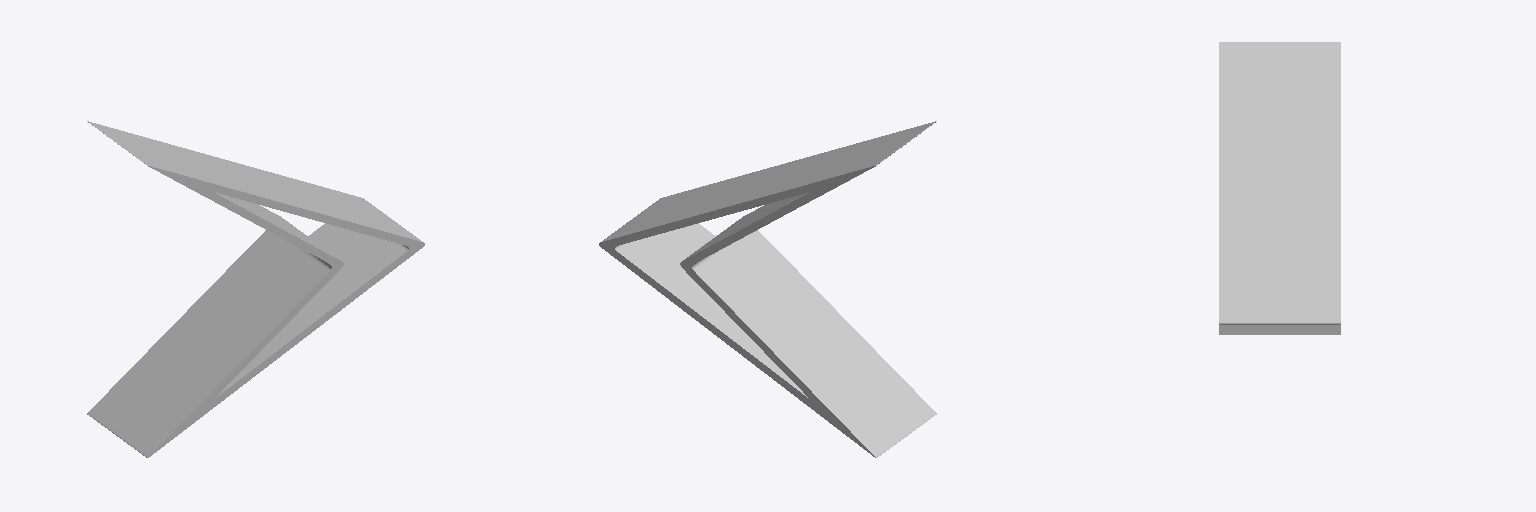
The model's file is Arrow_34.obj.
3 views of the same model, side by side, from view 1: azimuth 30°, elevation 25°; view 2: azimuth 150°, elevation 25°; view 3: azimuth 270°, elevation 25° (orthographic).
Visible parts, largest first — view 1: Arrow_34; view 2: Arrow_34; view 3: Arrow_34.
Part boxes in pixels (left/top/right/bottom): Arrow_34: left=87, top=121, right=424, bottom=457; Arrow_34: left=599, top=121, right=936, bottom=457; Arrow_34: left=1219, top=42, right=1340, bottom=334.
Bounding box in the file's own units: 1.96 × 1.98 × 0.7423.